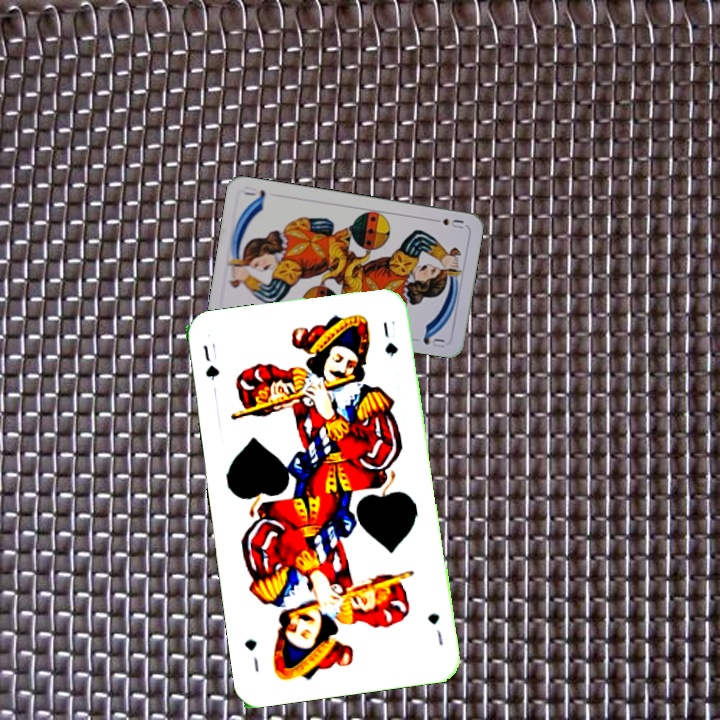GU: (199, 341, 222, 383), (423, 609, 446, 648)
SU: (427, 214, 467, 231)
